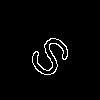S: (25, 25, 82, 82)
